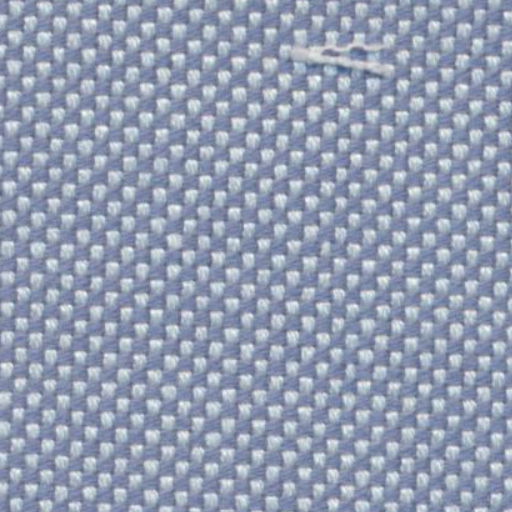DuanSha: (280, 26, 405, 102)
